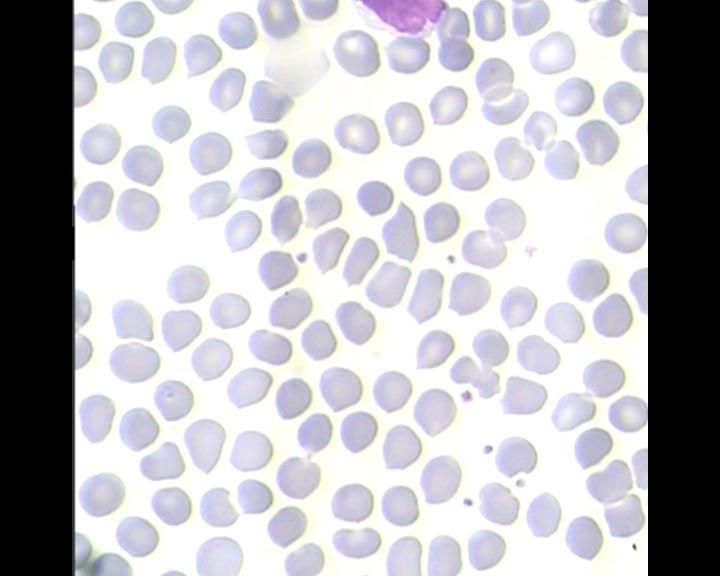mono: (353, 0, 452, 43)
